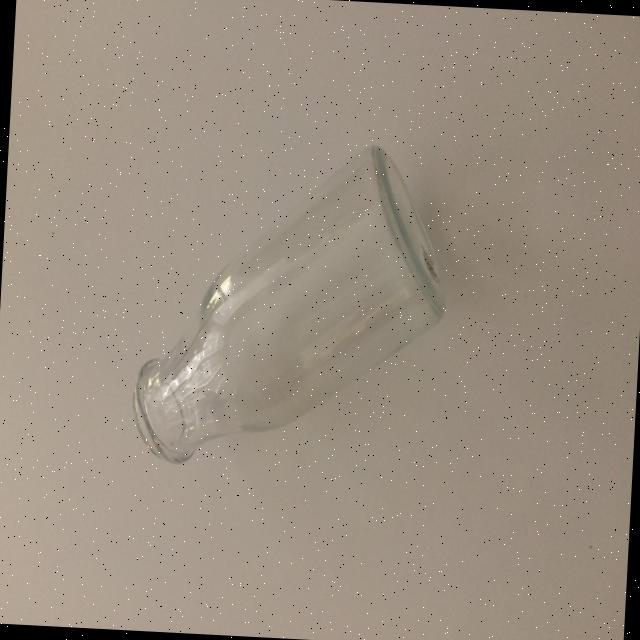glass: (129, 131, 455, 478)
